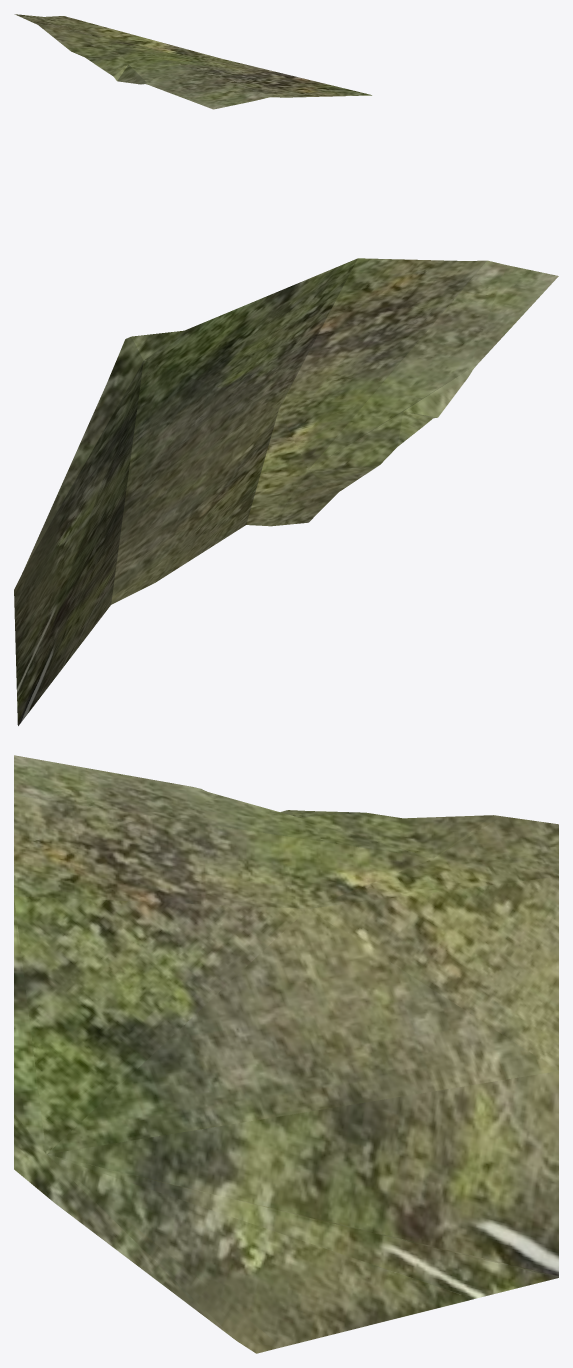
3 views of the same model, one above another, from view 1: azimuth 30°, elevation 25°; view 2: azimuth 150°, elevation 25°; view 3: azimuth 270°, elevation 25° (orthographic). The views are drawn at different scales.
Size of the model in its own units: 2.95 by 2.2 by 2.95.
3 materials, 3 textured.
